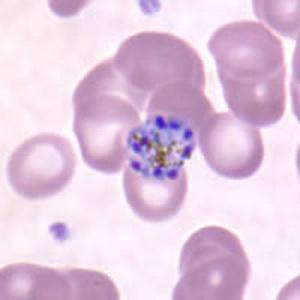Infected: (125, 114, 197, 183)
Uninfected: (115, 30, 205, 95), (217, 49, 284, 128), (76, 95, 138, 176), (75, 54, 147, 120), (4, 130, 73, 198), (207, 21, 283, 81), (198, 109, 265, 177), (145, 83, 212, 147), (122, 159, 184, 225), (182, 224, 248, 286), (171, 256, 243, 300)
